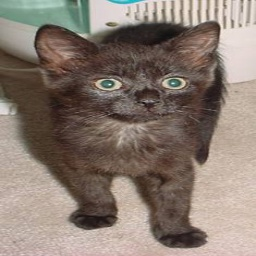cat: (25, 21, 228, 252)
